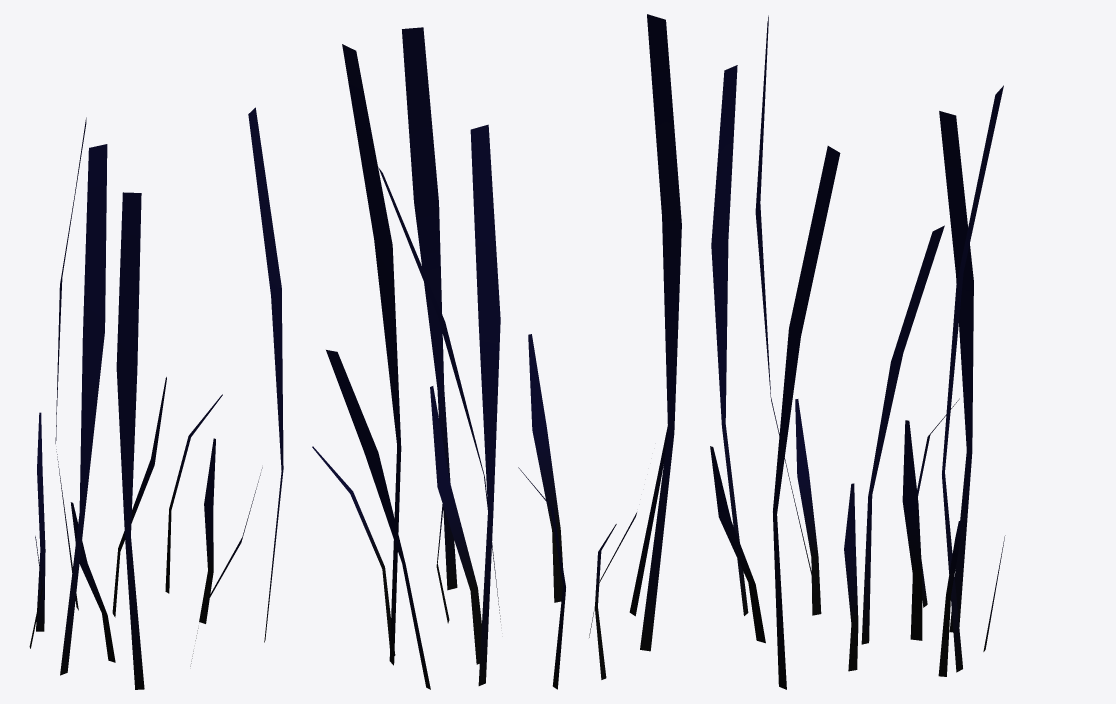
File: SM_Foliage_ReedDry_03.fbx
3 views of the same model, side by side, from view 1: azimuth 30°, elevation 25°; view 2: azimuth 150°, elevation 25°; view 3: azimuth 270°, elevation 25° (orthographic). The views are drawn at different scales.
Parts seen in each view (by area): view 1: SM_Foliage_ReedDry_03; view 2: SM_Foliage_ReedDry_03; view 3: SM_Foliage_ReedDry_03.
Part boxes in pixels (x1,y1,x2,y2): SM_Foliage_ReedDry_03: (29,107,283,689); SM_Foliage_ReedDry_03: (312,14,681,689); SM_Foliage_ReedDry_03: (710,15,1005,689).
Size of the model in its own units: 59.15 by 78.86 by 132.
